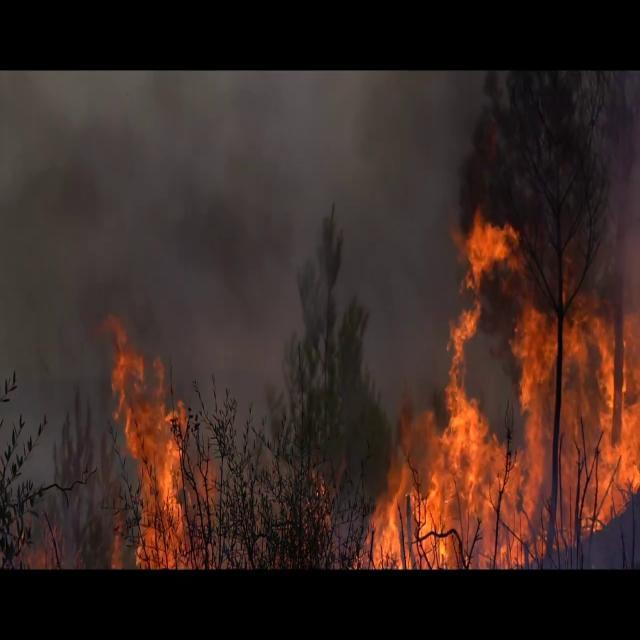Fire: (360, 200, 638, 562), (104, 326, 208, 566)
Smoke: (0, 70, 451, 478)
